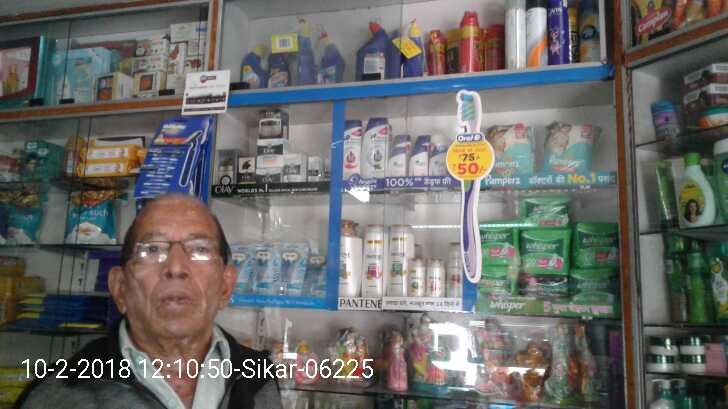gillete: (134, 116, 216, 206)
venus: (277, 244, 306, 302), (232, 241, 254, 295), (254, 244, 277, 295), (306, 254, 329, 303)
